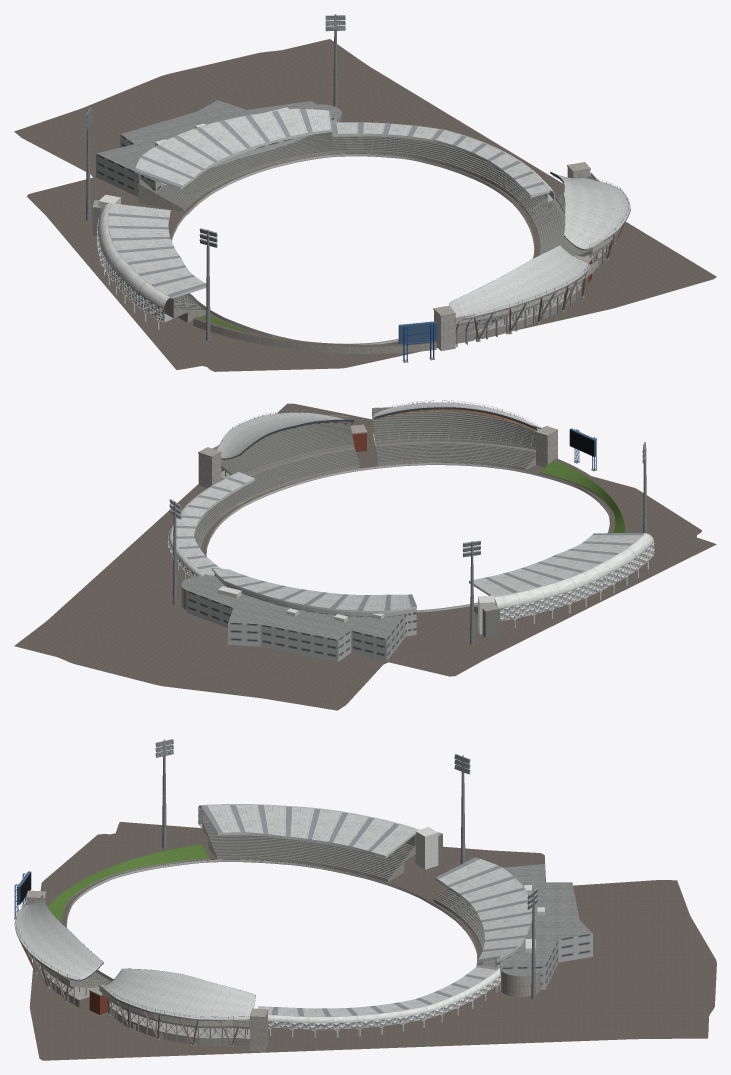
File: mars.glb
The picture shows the model from 3 angles, top to bottom: view 1: azimuth 30°, elevation 25°; view 2: azimuth 150°, elevation 25°; view 3: azimuth 270°, elevation 25°; orthographic projection. The views are drawn at different scales.
Visible parts, largest first — view 1: concourse, roofs, stands, buildings, towers, fence, seat_posts, videoboard; view 2: concourse, stands, roofs, buildings, seat_posts, towers, fence, videoboard; view 3: concourse, roofs, stands, buildings, towers, fence, seat_posts.
Boxes of the visible parts, x1=… form: concourse: x1=14, y1=39, x2=716, y2=371; roofs: x1=98, y1=108, x2=630, y2=346; stands: x1=97, y1=132, x2=617, y2=353; buildings: x1=92, y1=100, x2=341, y2=235; towers: x1=85, y1=14, x2=345, y2=340; fence: x1=171, y1=153, x2=534, y2=344; seat_posts: x1=140, y1=133, x2=592, y2=309; videoboard: x1=398, y1=321, x2=437, y2=362; concourse: x1=14, y1=403, x2=716, y2=710; stands: x1=167, y1=407, x2=654, y2=636; roofs: x1=168, y1=400, x2=653, y2=612; buildings: x1=181, y1=574, x2=499, y2=661; seat_posts: x1=197, y1=410, x2=535, y2=605; towers: x1=169, y1=442, x2=646, y2=644; fence: x1=206, y1=462, x2=609, y2=612; videoboard: x1=569, y1=428, x2=597, y2=471; concourse: x1=29, y1=822, x2=716, y2=1060; roofs: x1=14, y1=804, x2=532, y2=1047; stands: x1=22, y1=810, x2=520, y2=1051; buildings: x1=415, y1=827, x2=592, y2=997; towers: x1=155, y1=739, x2=538, y2=999; fence: x1=66, y1=859, x2=477, y2=980; seat_posts: x1=71, y1=822, x2=495, y2=985.
Size of the model in its own units: 220 by 46.34 by 274.
27 materials, 27 textured.
